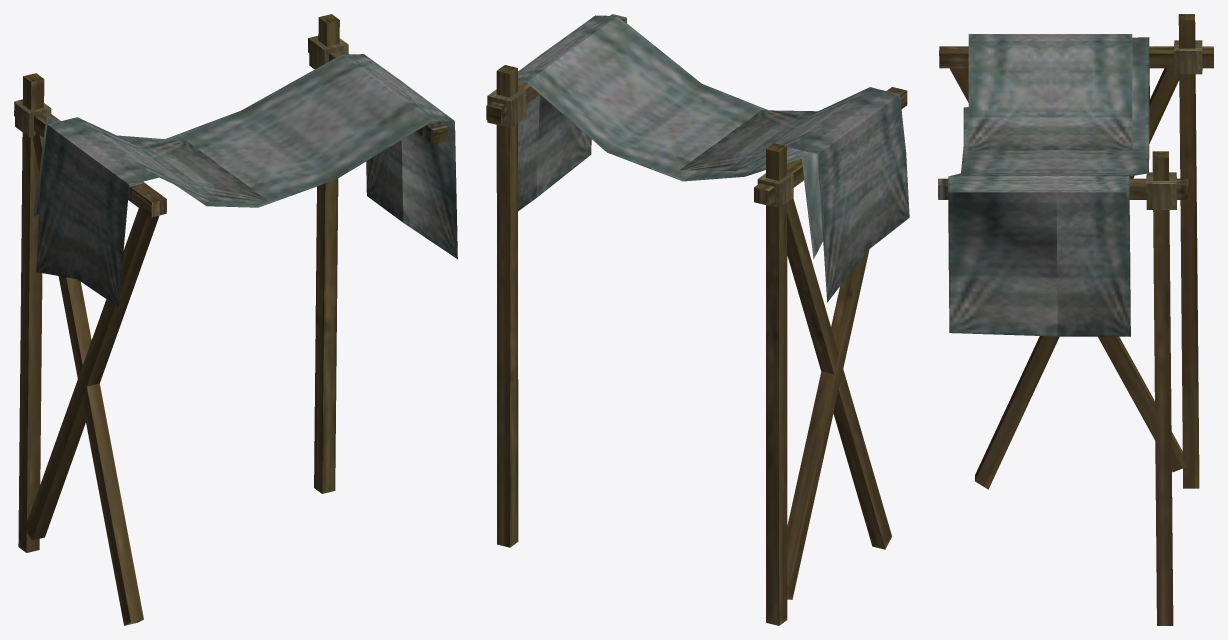
File: S_Build_Village099.FBX
The picture shows the model from 3 angles, left to right: view 1: azimuth 30°, elevation 25°; view 2: azimuth 150°, elevation 25°; view 3: azimuth 270°, elevation 25°; orthographic projection.
Visible parts, largest first — view 1: S_Build_Village099; view 2: S_Build_Village099; view 3: S_Build_Village099.
Part boxes in pixels (<box>): S_Build_Village099: <box>14,14,457,625</box>; S_Build_Village099: <box>486,14,909,625</box>; S_Build_Village099: <box>938,14,1213,625</box>.
Size of the model in its own units: 522 by 381 by 716.
